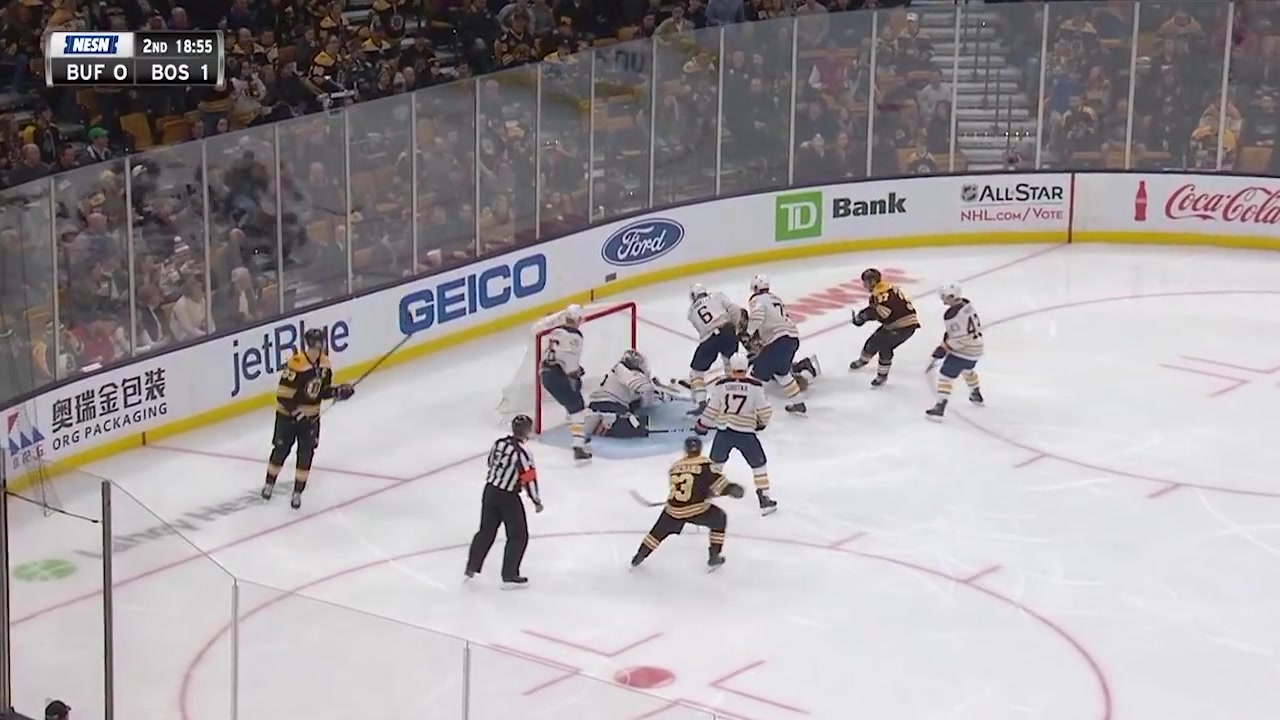geico: (381, 247, 556, 338)
